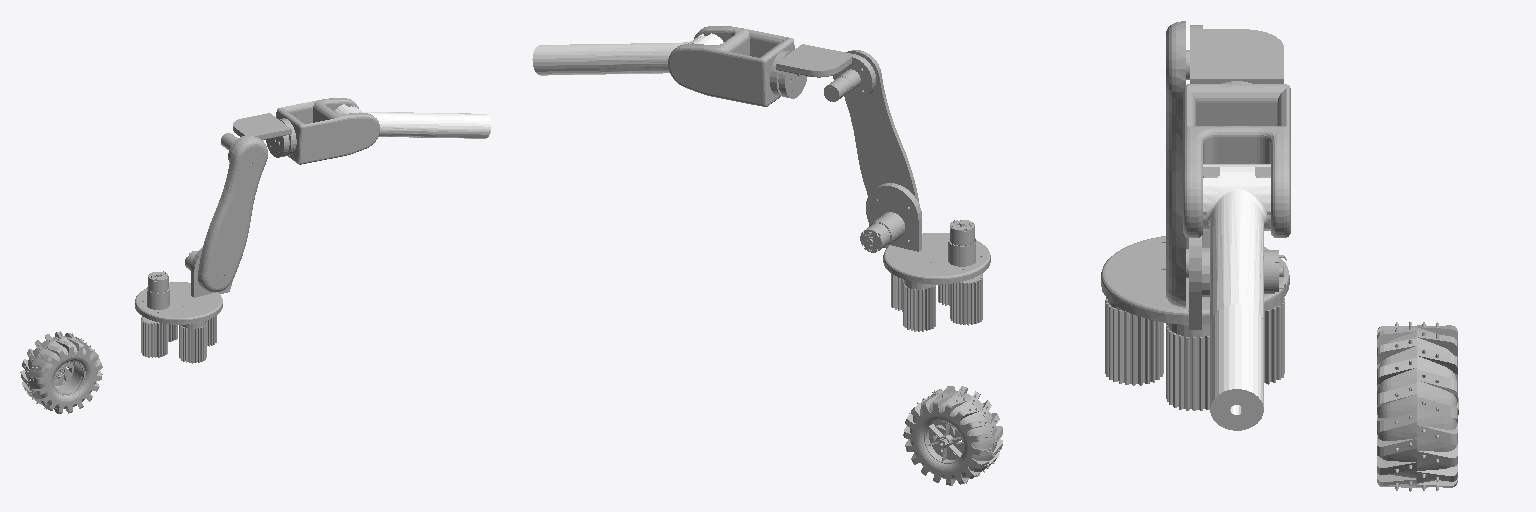
URDF robot description (diff_drive):
<?xml version="1.0" encoding="utf-8"?>
<!-- This URDF was automatically created by SolidWorks to URDF Exporter! Originally created by [author] ([email redacted]) 
     Commit Version: 1.5.1-0-g916b5db  Build Version: 1.5.7152.31018
     For more information, please see http://wiki.ros.org/sw_urdf_exporter -->
<robot
  name="diff_drive">
  <link
    name="base_link_Chasis">
    <inertial>
      <origin
        xyz="-0.0112401823918047 0.000443693306025505 0.0601080455071435"
        rpy="0 0 0" />
      <mass
        value="5.34447797641956" />
      <inertia
        ixx="0.0273893594112689"
        ixy="1.69654538422057E-05"
        ixz="-1.08762432056227E-06"
        iyy="0.0269594894054598"
        iyz="8.26864136660382E-08"
        izz="0.0517209464806407" />
    </inertial>
    <visual>
      <origin
        xyz="0 0 0"
        rpy="0 0 0" />
      <geometry>
        <mesh
          filename="package://diff_drive/meshes/base_link_Chasis.STL" />
      </geometry>
      <material
        name="">
        <color
          rgba="0.752941176470588 0.752941176470588 0.752941176470588 1" />
      </material>
    </visual>
    <collision>
      <origin
        xyz="0 0 0"
        rpy="0 0 0" />
      <geometry>
        <mesh
          filename="package://diff_drive/meshes/base_link_Chasis.STL" />
      </geometry>
    </collision>
  </link>
  <link
    name="Link_1_1_wheel">
    <inertial>
      <origin
        xyz="5.67991416164371E-07 2.82678237431555E-06 -0.0304872070529114"
        rpy="0 0 0" />
      <mass
        value="0.62241947518931" />
      <inertia
        ixx="0.000624907057081948"
        ixy="-3.27878592567662E-09"
        ixz="4.02329903687644E-11"
        iyy="0.000624902314874052"
        iyz="-5.11080571575358E-09"
        izz="0.00114905854450842" />
    </inertial>
    <visual>
      <origin
        xyz="0 0 0"
        rpy="0 0 0" />
      <geometry>
        <mesh
          filename="package://diff_drive/meshes/Link_1_1_wheel.STL" />
      </geometry>
      <material
        name="">
        <color
          rgba="0.752941176470588 0.752941176470588 0.752941176470588 1" />
      </material>
    </visual>
    <collision>
      <origin
        xyz="0 0 0"
        rpy="0 0 0" />
      <geometry>
        <mesh
          filename="package://diff_drive/meshes/Link_1_1_wheel.STL" />
      </geometry>
    </collision>
  </link>
  <joint
    name="joint_1_1_wheel"
    type="continuous">
    <origin
      xyz="-0.12 -0.13348 0.0195"
      rpy="-1.5708 0 0" />
    <parent
      link="base_link_Chasis" />
    <child
      link="Link_1_1_wheel" />
    <axis
      xyz="0 0 -1" />
  </joint>
  <link
    name="Link_1_2_wheel">
    <inertial>
      <origin
        xyz="2.73809271632286E-06 -9.0341635872182E-07 -0.0321210915173856"
        rpy="0 0 0" />
      <mass
        value="0.62241947518931" />
      <inertia
        ixx="0.00062490065579211"
        ixy="3.60794637957165E-10"
        ixz="4.42299708533631E-09"
        iyy="0.00062490871616389"
        iyz="-2.56106433818635E-09"
        izz="0.00114905854450842" />
    </inertial>
    <visual>
      <origin
        xyz="0 0 0"
        rpy="0 0 0" />
      <geometry>
        <mesh
          filename="package://diff_drive/meshes/Link_1_2_wheel.STL" />
      </geometry>
      <material
        name="">
        <color
          rgba="0.752941176470588 0.752941176470588 0.752941176470588 1" />
      </material>
    </visual>
    <collision>
      <origin
        xyz="0 0 0"
        rpy="0 0 0" />
      <geometry>
        <mesh
          filename="package://diff_drive/meshes/Link_1_2_wheel.STL" />
      </geometry>
    </collision>
  </link>
  <joint
    name="joint_1_2_wheel"
    type="continuous">
    <origin
      xyz="-0.12 0.196084149285149 0.019499999999999"
      rpy="-1.5707963267949 0 0" />
    <parent
      link="base_link_Chasis" />
    <child
      link="Link_1_2_wheel" />
    <axis
      xyz="0 0 1" />
  </joint>
  <link
    name="Link_1_3_wheel">
    <inertial>
      <origin
        xyz="2.45343850485691E-06 1.51457992322857E-06 -0.0304872070529117"
        rpy="0 0 0" />
      <mass
        value="0.622419475189312" />
      <inertia
        ixx="0.00062490125347859"
        ixy="-2.14254962013106E-09"
        ixz="-3.70732769567224E-09"
        iyy="0.000624908118477413"
        iyz="-3.51819202590978E-09"
        izz="0.00114905854450842" />
    </inertial>
    <visual>
      <origin
        xyz="0 0 0"
        rpy="0 0 0" />
      <geometry>
        <mesh
          filename="package://diff_drive/meshes/Link_1_3_wheel.STL" />
      </geometry>
      <material
        name="">
        <color
          rgba="0.752941176470588 0.752941176470588 0.752941176470588 1" />
      </material>
    </visual>
    <collision>
      <origin
        xyz="0 0 0"
        rpy="0 0 0" />
      <geometry>
        <mesh
          filename="package://diff_drive/meshes/Link_1_3_wheel.STL" />
      </geometry>
    </collision>
  </link>
  <joint
    name="joint_1_3_wheel"
    type="continuous">
    <origin
      xyz="0.0800000000000007 -0.133475850714851 0.0195000000000001"
      rpy="-1.5707963267949 0 0" />
    <parent
      link="base_link_Chasis" />
    <child
      link="Link_1_3_wheel" />
    <axis
      xyz="0 0 -1" />
  </joint>
  <link
    name="Link_1_4_wheel">
    <inertial>
      <origin
        xyz="6.88887376004699E-07 2.79977624520478E-06 -0.0321210915173857"
        rpy="0 0 0" />
      <mass
        value="0.622419475189308" />
      <inertia
        ixx="0.000624908723580364"
        ixy="2.6521354361954E-10"
        ixz="2.21122175098438E-09"
        iyy="0.000624900648375635"
        iyz="4.60786850205311E-09"
        izz="0.00114905854450842" />
    </inertial>
    <visual>
      <origin
        xyz="0 0 0"
        rpy="0 0 0" />
      <geometry>
        <mesh
          filename="package://diff_drive/meshes/Link_1_4_wheel.STL" />
      </geometry>
      <material
        name="">
        <color
          rgba="0.752941176470588 0.752941176470588 0.752941176470588 1" />
      </material>
    </visual>
    <collision>
      <origin
        xyz="0 0 0"
        rpy="0 0 0" />
      <geometry>
        <mesh
          filename="package://diff_drive/meshes/Link_1_4_wheel.STL" />
      </geometry>
    </collision>
  </link>
  <joint
    name="joint_1_4_wheel"
    type="continuous">
    <origin
      xyz="0.08 0.19608 0.0195"
      rpy="-1.5708 0 0" />
    <parent
      link="base_link_Chasis" />
    <child
      link="Link_1_4_wheel" />
    <axis
      xyz="0 0 1" />
  </joint>
  <link
    name="Link_2_Arm">
    <inertial>
      <origin
        xyz="0.00748196672374324 0.00102802561169185 0.0638410985827166"
        rpy="0 0 0" />
      <mass
        value="0.628890750175801" />
      <inertia
        ixx="0.000520538685244632"
        ixy="-2.12235972486672E-06"
        ixz="-0.000139357039232038"
        iyy="0.000728419435655154"
        iyz="-1.13027487326274E-06"
        izz="0.000770486257960158" />
    </inertial>
    <visual>
      <origin
        xyz="0 0 0"
        rpy="0 0 0" />
      <geometry>
        <mesh
          filename="package://diff_drive/meshes/Link_2_Arm.STL" />
      </geometry>
      <material
        name="">
        <color
          rgba="0.752941176470588 0.752941176470588 0.752941176470588 1" />
      </material>
    </visual>
    <collision>
      <origin
        xyz="0 0 0"
        rpy="0 0 0" />
      <geometry>
        <mesh
          filename="package://diff_drive/meshes/Link_2_Arm.STL" />
      </geometry>
    </collision>
  </link>
  <joint
    name="joint_2_Arm"
    type="revolute">
    <origin
      xyz="0 0 0.098503"
      rpy="0 0 0" />
    <parent
      link="base_link_Chasis" />
    <child
      link="Link_2_Arm" />
    <axis
      xyz="0 0 1" />
    <limit
      lower="-3.14"
      upper="3.14"
      effort="0"
      velocity="0" />
  </joint>
  <link
    name="Link_3_Arm">
    <inertial>
      <origin
        xyz="0.0296690817173591 0.0937475303009118 0.0154851256686125"
        rpy="0 0 0" />
      <mass
        value="0.253359108687758" />
      <inertia
        ixx="0.00110683077017184"
        ixy="-0.000324885669810858"
        ixz="1.02859280609467E-07"
        iyy="0.000181665186280893"
        iyz="3.25419397857424E-07"
        izz="0.0012795061824751" />
    </inertial>
    <visual>
      <origin
        xyz="0 0 0"
        rpy="0 0 0" />
      <geometry>
        <mesh
          filename="package://diff_drive/meshes/Link_3_Arm.STL" />
      </geometry>
      <material
        name="">
        <color
          rgba="0.752941176470588 0.752941176470588 0.752941176470588 1" />
      </material>
    </visual>
    <collision>
      <origin
        xyz="0 0 0"
        rpy="0 0 0" />
      <geometry>
        <mesh
          filename="package://diff_drive/meshes/Link_3_Arm.STL" />
      </geometry>
    </collision>
  </link>
  <joint
    name="joint_3_Arm"
    type="revolute">
    <origin
      xyz="0.063383 0.0021739 0.12369"
      rpy="1.5708 0 0" />
    <parent
      link="Link_2_Arm" />
    <child
      link="Link_3_Arm" />
    <axis
      xyz="0.034278 0 0.99941" />
    <limit
      lower="0"
      upper="1.57"
      effort="0"
      velocity="0" />
  </joint>
  <link
    name="Link_4_Arm">
    <inertial>
      <origin
        xyz="0.12214 -0.0031288 -0.025262"
        rpy="0 0 0" />
      <mass
        value="0.5315" />
      <inertia
        ixx="0.00053038"
        ixy="3.203E-05"
        ixz="3.3052E-05"
        iyy="0.0012792"
        iyz="8.2845E-06"
        izz="0.0010824" />
    </inertial>
    <visual>
      <origin
        xyz="0 0 0"
        rpy="0 0 0" />
      <geometry>
        <mesh
          filename="package://diff_drive/meshes/Link_4_Arm.STL" />
      </geometry>
      <material
        name="">
        <color
          rgba="0.75294 0.75294 0.75294 1" />
      </material>
    </visual>
    <collision>
      <origin
        xyz="0 0 0"
        rpy="0 0 0" />
      <geometry>
        <mesh
          filename="package://diff_drive/meshes/Link_4_Arm.STL" />
      </geometry>
    </collision>
  </link>
  <joint
    name="joint_4_Arm"
    type="revolute">
    <origin
      xyz="0.060241 0.1907 -0.0020662"
      rpy="0 0 0" />
    <parent
      link="Link_3_Arm" />
    <child
      link="Link_4_Arm" />
    <axis
      xyz="-0.034278 0 -0.99941" />
    <limit
      lower="-1.57"
      upper="1.57"
      effort="0"
      velocity="0" />
  </joint>
  <link
    name="Link_5_Arm">
    <inertial>
      <origin
        xyz="0.10453 -0.026221 -0.022979"
        rpy="0 0 0" />
      <mass
        value="0.34582" />
      <inertia
        ixx="0.00011962"
        ixy="0.00014937"
        ixz="1.8439E-11"
        iyy="0.00069107"
        iyz="-7.1519E-10"
        izz="0.0007295" />
    </inertial>
    <visual>
      <origin
        xyz="0 0 0"
        rpy="0 0 0" />
      <geometry>
        <mesh
          filename="package://diff_drive/meshes/Link_5_Arm.STL" />
      </geometry>
      <material
        name="">
        <color
          rgba="1 1 1 1" />
      </material>
    </visual>
    <collision>
      <origin
        xyz="0 0 0"
        rpy="0 0 0" />
      <geometry>
        <mesh
          filename="package://diff_drive/meshes/Link_5_Arm.STL" />
      </geometry>
    </collision>
  </link>
  <joint
    name="joint_5_Arm"
    type="revolute">
    <origin
      xyz="0.21278 -0.0095961 -0.0037813"
      rpy="0 0 0" />
    <parent
      link="Link_4_Arm" />
    <child
      link="Link_5_Arm" />
    <axis
      xyz="-0.034278 0 -0.99941" />
    <limit
      lower="-2.8"
      upper="2.8"
      effort="0"
      velocity="0" />
  </joint>
</robot>

--- What the picture shows (computed from the rendered views, not written in the file) ---
3 views of the same robot in one strip: view 1: azimuth 30°, elevation 25°; view 2: azimuth 150°, elevation 25°; view 3: azimuth 270°, elevation 25° (orthographic).
Model diff_drive with 9 links and 8 joints (4 revolute, 4 continuous), rooted at base_link_Chasis, posed all joints at 0.
Links seen in each view (by area): view 1: Link_4_Arm, Link_2_Arm, Link_3_Arm, Link_1_2_wheel, Link_5_Arm; view 2: Link_2_Arm, Link_4_Arm, Link_1_2_wheel, Link_3_Arm, Link_5_Arm; view 3: Link_2_Arm, Link_4_Arm, Link_5_Arm, Link_1_2_wheel, Link_3_Arm.
Link boxes in pixels (bbox=[...]): Link_4_Arm: bbox=[221, 98, 379, 164]; Link_2_Arm: bbox=[135, 247, 232, 363]; Link_3_Arm: bbox=[198, 136, 267, 291]; Link_1_2_wheel: bbox=[20, 331, 102, 413]; Link_5_Arm: bbox=[334, 104, 491, 138]; Link_2_Arm: bbox=[860, 183, 990, 331]; Link_4_Arm: bbox=[668, 26, 875, 106]; Link_1_2_wheel: bbox=[903, 386, 1002, 485]; Link_3_Arm: bbox=[844, 50, 919, 204]; Link_5_Arm: bbox=[532, 33, 723, 75]; Link_2_Arm: bbox=[1101, 231, 1289, 410]; Link_4_Arm: bbox=[1183, 25, 1290, 237]; Link_5_Arm: bbox=[1203, 164, 1270, 430]; Link_1_2_wheel: bbox=[1377, 322, 1458, 491]; Link_3_Arm: bbox=[1166, 21, 1189, 307].
Size in the robot's own frame: 0.767 by 0.2658 by 0.4895 metres.
5 mesh visuals loaded from 9 distinct referenced files (5 binary STL); not drawn: 4 (reference not matched to a file when rendering).